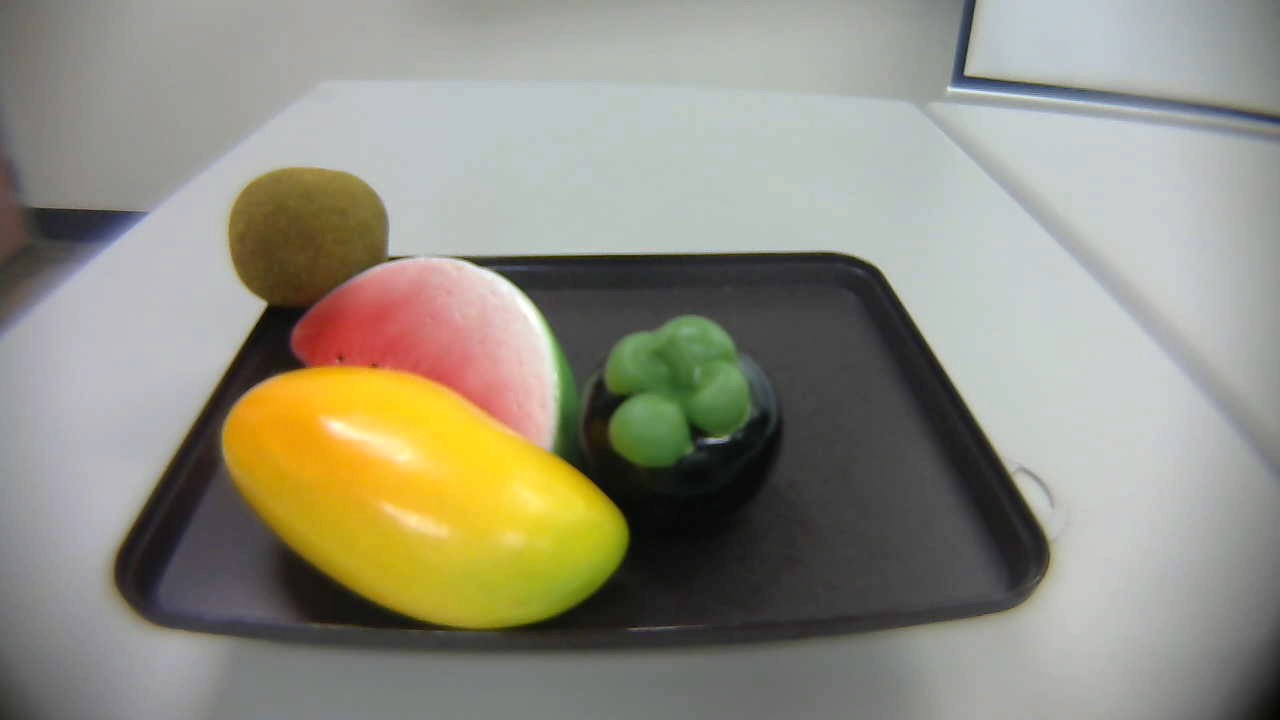kiwi fruit: (227, 161, 399, 317)
mangosteen: (566, 301, 789, 524)
water melon: (278, 256, 582, 471)
yellow mango: (207, 361, 638, 651)
